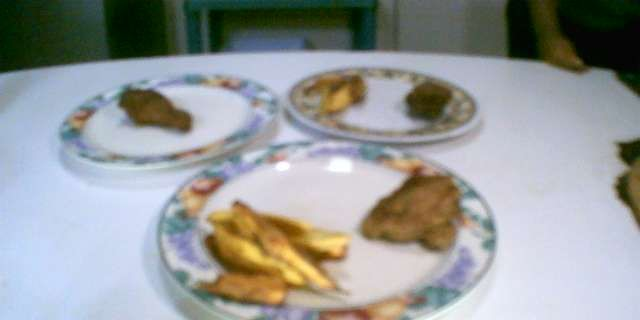chicken: (354, 169, 467, 254), (111, 81, 196, 137), (400, 71, 454, 121)
potatoe_fries: (199, 186, 352, 310), (308, 62, 368, 118)
